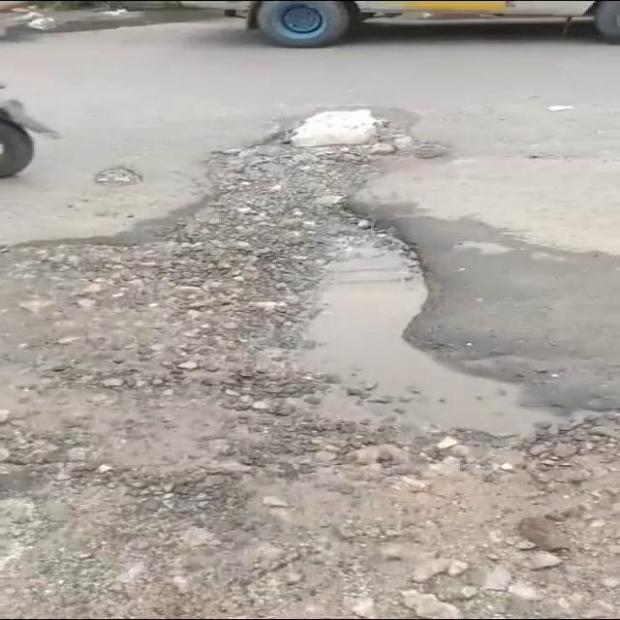lubang: (0, 145, 619, 615), (94, 165, 142, 185)
